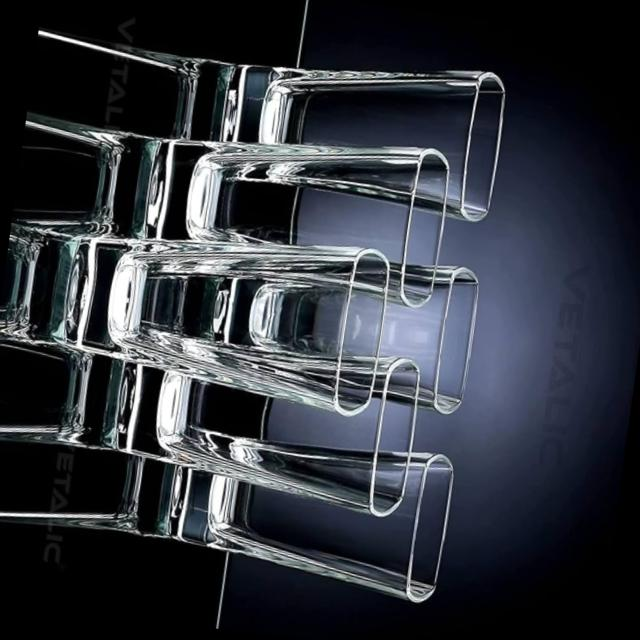glass: (132, 222, 497, 542), (78, 192, 410, 416), (128, 415, 478, 614), (149, 103, 462, 300), (217, 32, 520, 224)
